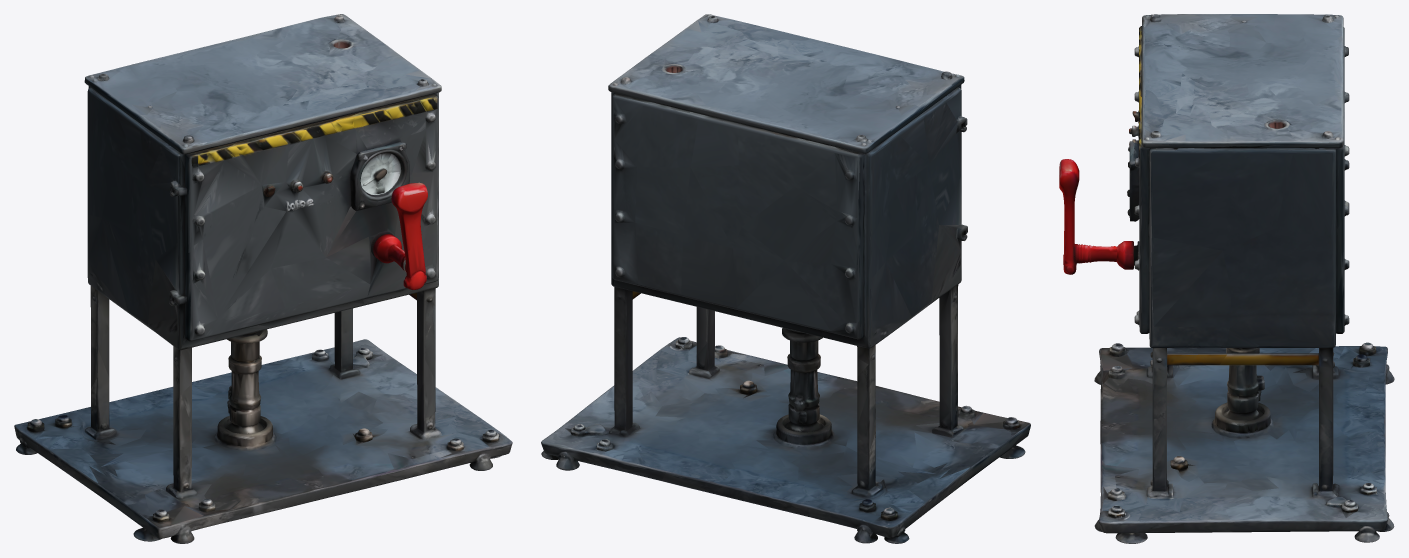
Rendered from power_transfer_switch.fbx.
3 views of the same model, side by side, from view 1: azimuth 30°, elevation 25°; view 2: azimuth 150°, elevation 25°; view 3: azimuth 270°, elevation 25° (orthographic).
Visible parts, largest first — view 1: power_transfer_switch; view 2: power_transfer_switch; view 3: power_transfer_switch.
Part boxes in pixels (box(x1,y1,x2,y2)): power_transfer_switch: box(14, 14, 512, 543); power_transfer_switch: box(541, 14, 1030, 543); power_transfer_switch: box(1059, 14, 1394, 543).
Size of the model in its own units: 1.45 by 1.42 by 1.13.
1 material, 1 textured.
